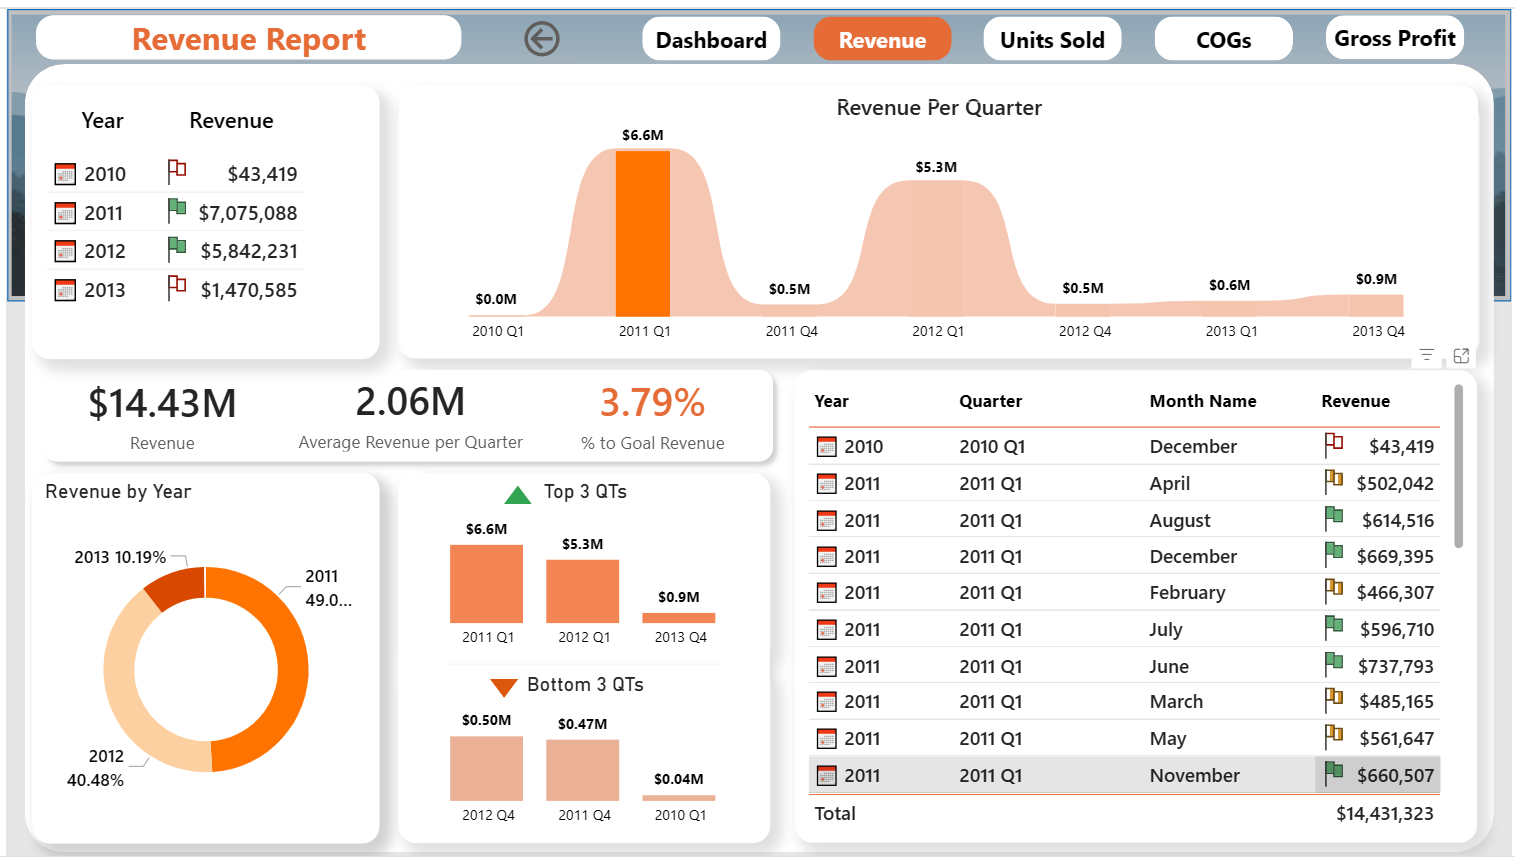

Layout of this report page (visuals, bound fields, positions):
{"tool":"powerbi","page":{"name":"Revenue","canvas":[1280,720],"ordinal":1},"visuals":[{"type":"group","id":"g1","title":"Image","box":[0,0,1279.5,248.2],"z":0},{"type":"actionButton","title":"Dashboard Button","box":[541.1,5.9,117.5,37.4],"z":0,"group":"g4"},{"type":"ribbonChart","title":"Revenue Per Quarter","fields":{"Category":["Calendar.Quarter"],"Y":["_Measures.Revenue"]},"box":[333.8,65,917.7,232.3],"z":0,"group":"g3"},{"type":"columnChart","title":"Top 3 QTs","fields":{"Category":["Calendar.Quarter"],"Y":["_Measures.Revenue"]},"box":[333.8,393.8,316.2,163.6],"z":0,"group":"g2"},{"type":"image","box":[0,0,1279.2,248.8],"z":500,"group":"g1"},{"type":"shape","box":[1.3,0,1278.7,248.6],"z":1000,"group":"g1"},{"type":"actionButton","title":"Revenue Button","box":[686.3,6,117.5,37.4],"z":1000,"group":"g4"},{"type":"shape","box":[16,47,1249,670],"z":1000},{"type":"columnChart","title":"Column","fields":{"Category":["Calendar.Quarter"],"Y":["_Measures.Revenue"]},"box":[332.5,78.8,920,218.8],"z":1000,"group":"g3"},{"type":"columnChart","title":"Bottom 3 QTs","fields":{"Category":["Calendar.Quarter"],"Y":["_Measures.Revenue"]},"box":[333.8,557.7,316.2,151.1],"z":1000,"group":"g2"},{"type":"actionButton","title":"Units Sold Button","box":[831.6,6.1,117.5,37.4],"z":2000,"group":"g4"},{"type":"donutChart","fields":{"Category":["Calendar.Year"],"Y":["_Measures.Revenue"]},"box":[22.5,393.8,295,315],"z":2000},{"type":"shape","box":[423.3,404,24.4,16.2],"z":2000,"group":"g2"},{"type":"actionButton","title":"Gross Profit Button","box":[1122,4.8,117.5,37.4],"z":3000,"group":"g4"},{"type":"group","id":"g2","title":"Small Columns","box":[333.8,393.8,316.2,315],"z":3000},{"type":"shape","box":[411.7,568.9,24.4,16.2],"z":3000,"group":"g2"},{"type":"actionButton","title":"COGs Button","box":[976.8,6.1,117.5,37.4],"z":4000,"group":"g4"},{"type":"group","id":"g3","title":"New Chart","box":[332.5,65,918.8,232.5],"z":4000},{"type":"shape","box":[608.2,545.4,41.5,30],"z":4000,"group":"g2"},{"type":"shape","title":"Shape for cards","box":[22.5,297.5,638.8,96.2],"z":5000},{"type":"shape","title":"White Block","box":[333.8,538.9,40.7,30],"z":5000,"group":"g2"},{"type":"tableEx","fields":{"Values":["Calendar.Year with icon","Calendar.Quarter","Calendar.Month Name","_Measures.Revenue"]},"box":[670.8,306.9,580.2,401.9],"z":6000},{"type":"card","fields":{"Values":["_Measures.Revenue"]},"box":[33.8,306.2,198.8,76.2],"z":7000},{"type":"card","fields":{"Values":["_Measures.Avg Revenue"]},"box":[240.9,308.2,206.5,74.6],"z":8000},{"type":"card","fields":{"Values":["_Measures.% to Goal Revenue"]},"box":[458.8,308.8,182.5,73.8],"z":9000},{"type":"tableEx","fields":{"Values":["Calendar.Year with icon","_Measures.Revenue"]},"box":[22.5,65,295,232.5],"z":10000},{"type":"group","id":"g4","title":"Group 1","box":[541.1,4.8,698.5,38.7],"z":11000},{"type":"actionButton","box":[435.8,4.8,58.1,39.9],"z":12000},{"type":"textbox","box":[25.4,4.8,361.9,37.5],"z":13000}]}

Visuals, with their boxes in screenshot pixels (x1, y1, x2, y2), scaled from the page's 1280x720 canvas onto the 1515x857 screenshot:
"Image" group: locate(0, 0, 1514, 295)
"Dashboard Button" actionButton: locate(640, 7, 780, 52)
"Revenue Per Quarter" ribbonChart: locate(395, 77, 1481, 354)
"Top 3 QTs" columnChart: locate(395, 469, 769, 663)
image: locate(0, 0, 1514, 296)
shape: locate(2, 0, 1514, 296)
"Revenue Button" actionButton: locate(812, 7, 951, 52)
shape: locate(19, 56, 1497, 853)
"Column" columnChart: locate(394, 94, 1482, 354)
"Bottom 3 QTs" columnChart: locate(395, 664, 769, 844)
"Units Sold Button" actionButton: locate(984, 7, 1123, 52)
donutChart - Calendar.Year x _Measures.Revenue: locate(27, 469, 376, 844)
shape: locate(501, 481, 530, 500)
"Gross Profit Button" actionButton: locate(1328, 6, 1467, 50)
"Small Columns" group: locate(395, 469, 769, 844)
shape: locate(487, 677, 516, 696)
"COGs Button" actionButton: locate(1156, 7, 1295, 52)
"New Chart" group: locate(394, 77, 1481, 354)
shape: locate(720, 649, 769, 685)
"Shape for cards" shape: locate(27, 354, 783, 469)
"White Block" shape: locate(395, 641, 443, 677)
tableEx - Calendar.Year with icon x Calendar.Quarter: locate(794, 365, 1481, 844)
card - _Measures.Revenue: locate(40, 364, 275, 455)
card - _Measures.Avg Revenue: locate(285, 367, 530, 456)
card - _Measures.% to Goal Revenue: locate(543, 368, 759, 455)
tableEx - Calendar.Year with icon x _Measures.Revenue: locate(27, 77, 376, 354)
"Group 1" group: locate(640, 6, 1467, 52)
actionButton: locate(516, 6, 585, 53)
textbox: locate(30, 6, 458, 50)
